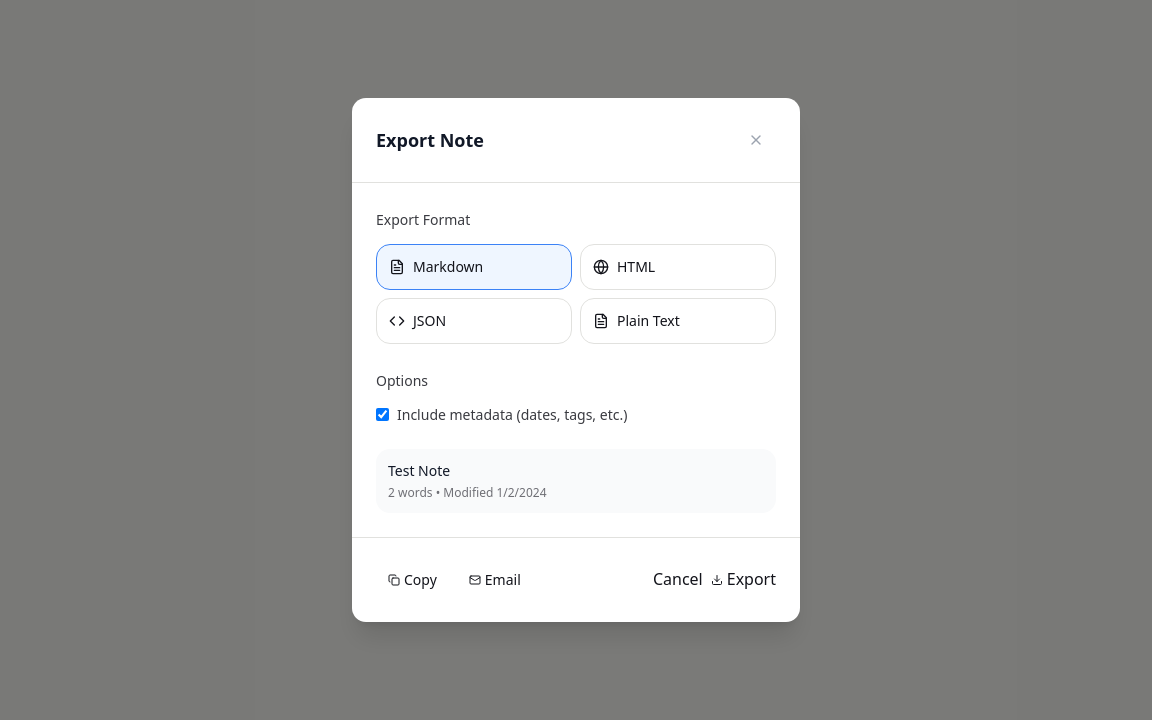
Test: ExportModal › Single Note Export › should export single note
Click the button "Export": click(743, 580) [711,567,776,592]
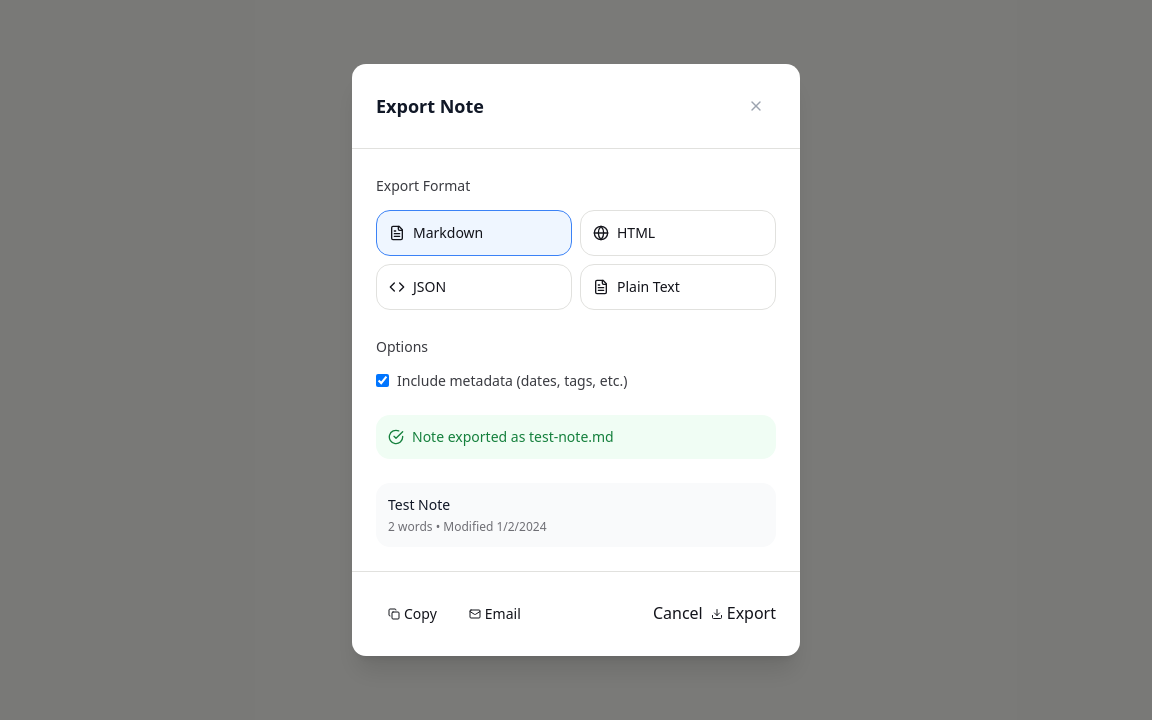
Now the text "Note exported as test-note.md" is shown, box [412,427,614,447]
